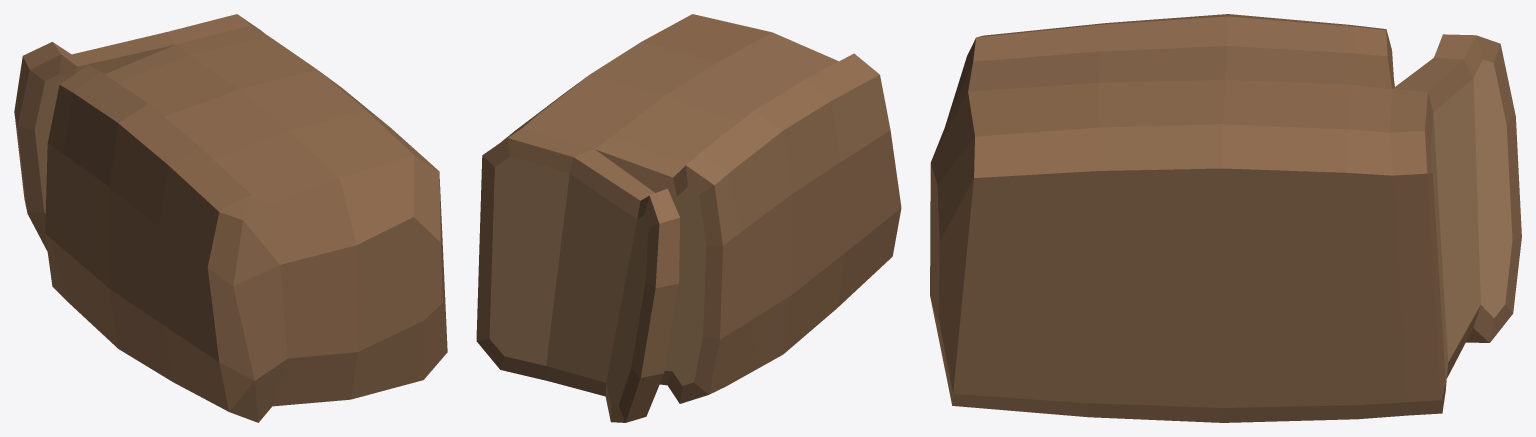
The model's file is Bread1.fbx.
The picture shows the model from 3 angles, left to right: view 1: azimuth 30°, elevation 25°; view 2: azimuth 150°, elevation 25°; view 3: azimuth 270°, elevation 25°; orthographic projection. The views are drawn at different scales.
Visible parts, largest first — view 1: BreadLoaf; view 2: BreadLoaf; view 3: BreadLoaf.
Boxes of the visible parts, x1,y1,x2,y2 form: BreadLoaf: [14, 14, 447, 422]; BreadLoaf: [476, 14, 901, 422]; BreadLoaf: [930, 14, 1521, 422].
Size of the model in its own units: 19.16 by 18.55 by 33.02.
